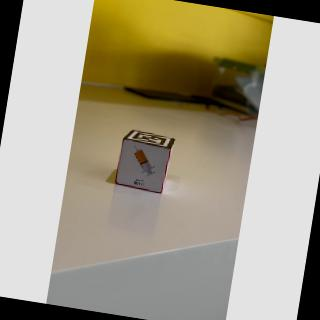Syringe: (115, 140, 172, 195)
